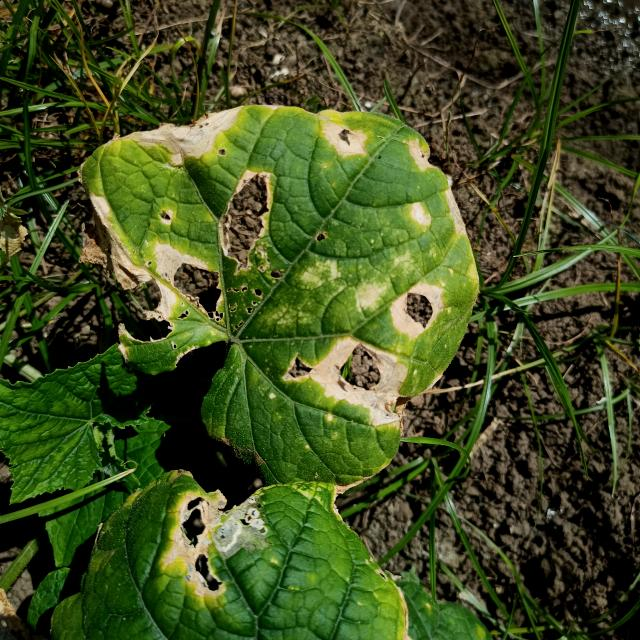disease_cucumber: (90, 111, 470, 441), (142, 493, 274, 597)
